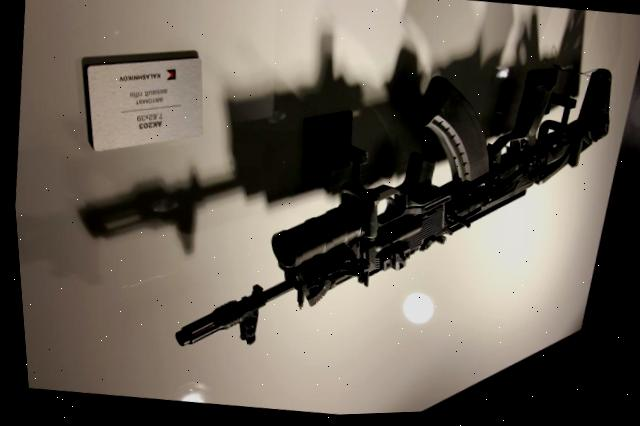rifle: (135, 0, 638, 410)
